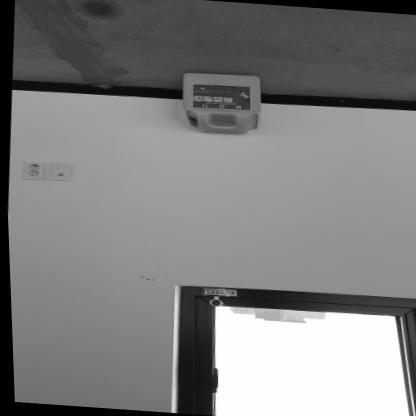DDL: (177, 70, 261, 134)
